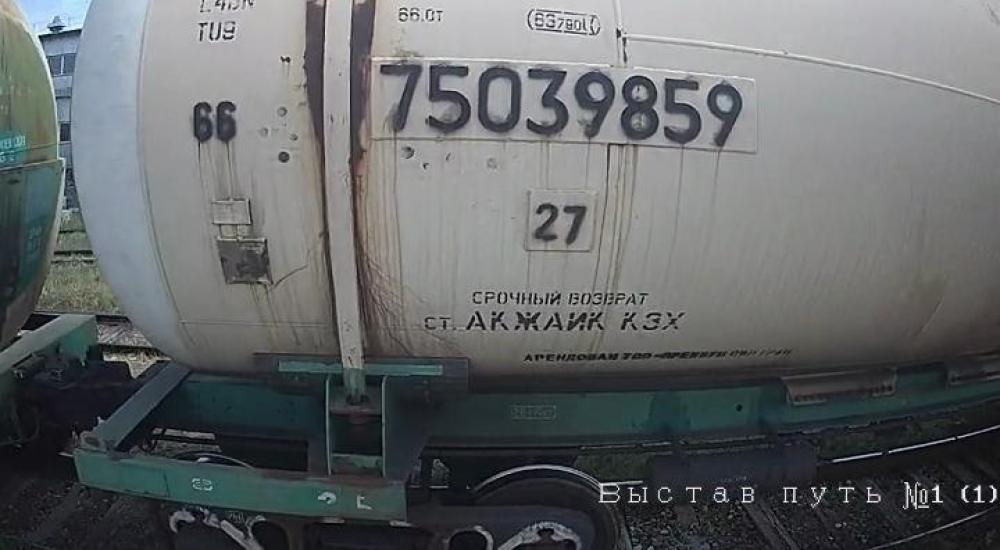Wagon-number: (372, 58, 746, 150)
